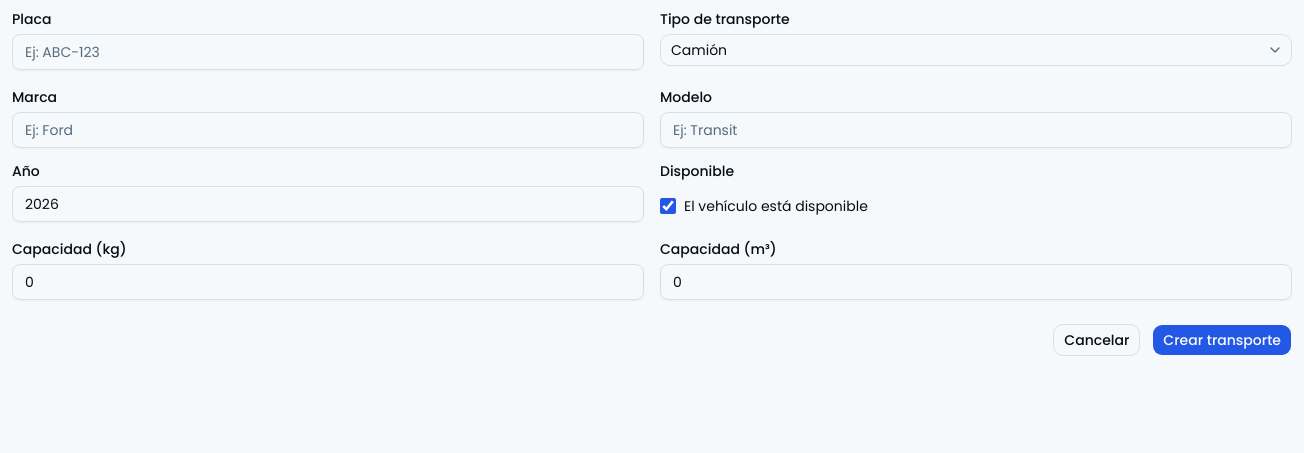
Test case: TransportForm — validación › muestra errores en campos de texto requeridos al enviar vacío
Clear the field labelled "Placa": [328, 52] box [12,34,644,70]
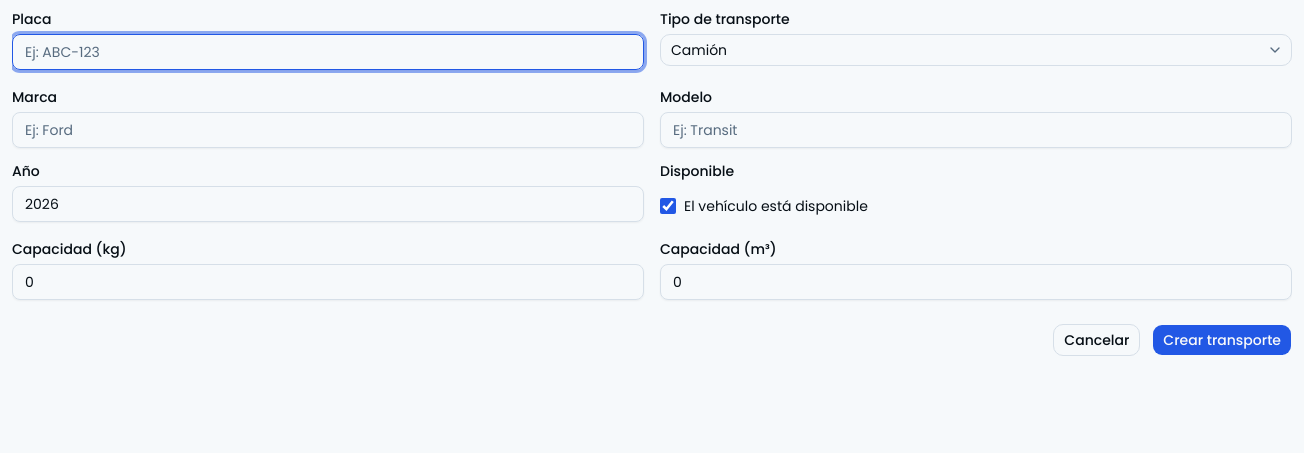
Clear the field labelled "Marca": [328, 130] box [12,112,644,148]
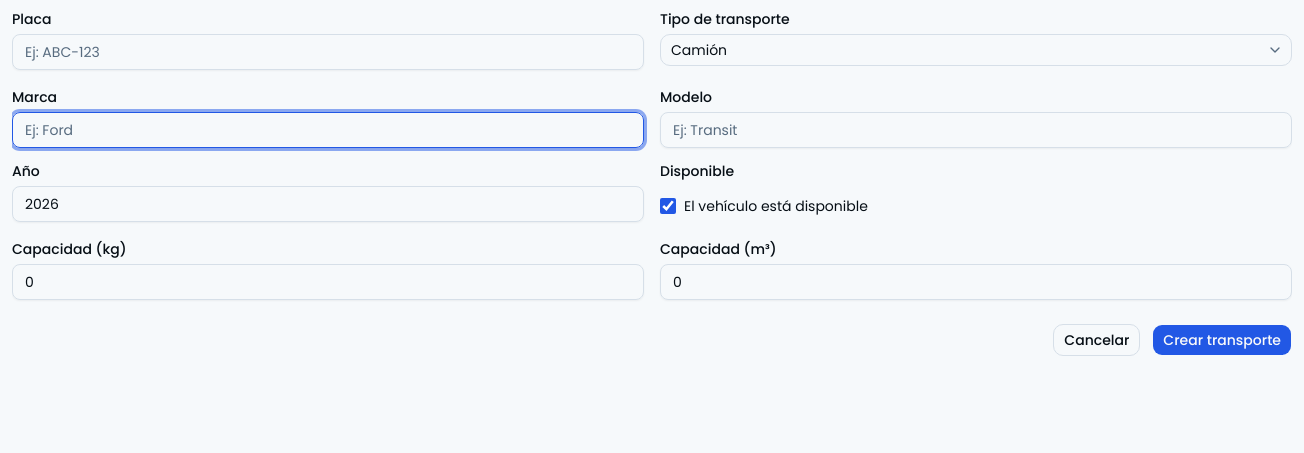
Clear the field labelled "Modelo": [976, 130] box [660,112,1292,148]
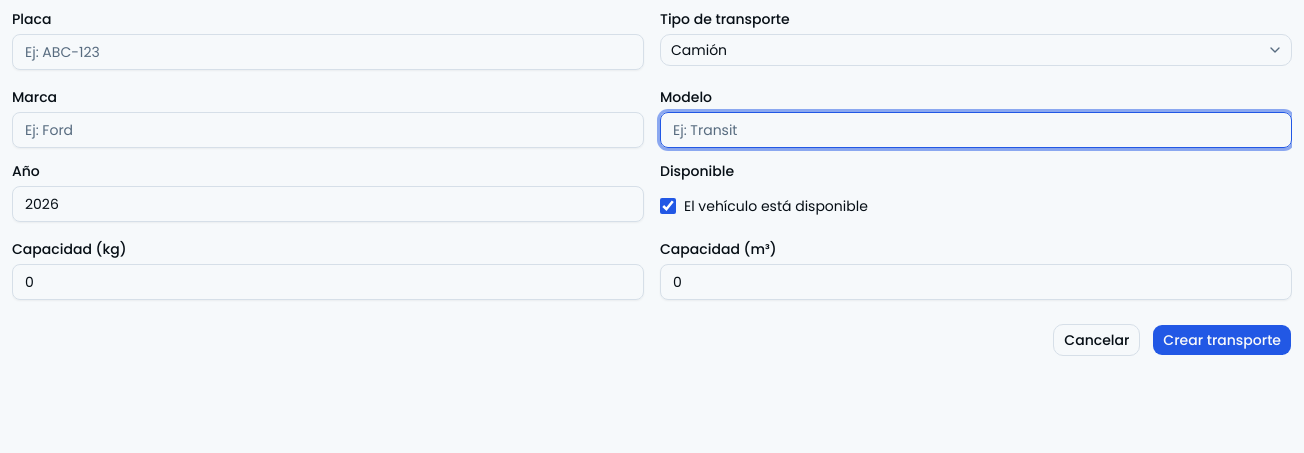
Click the button "Crear transporte": [1222, 340] box [1152,324,1292,356]
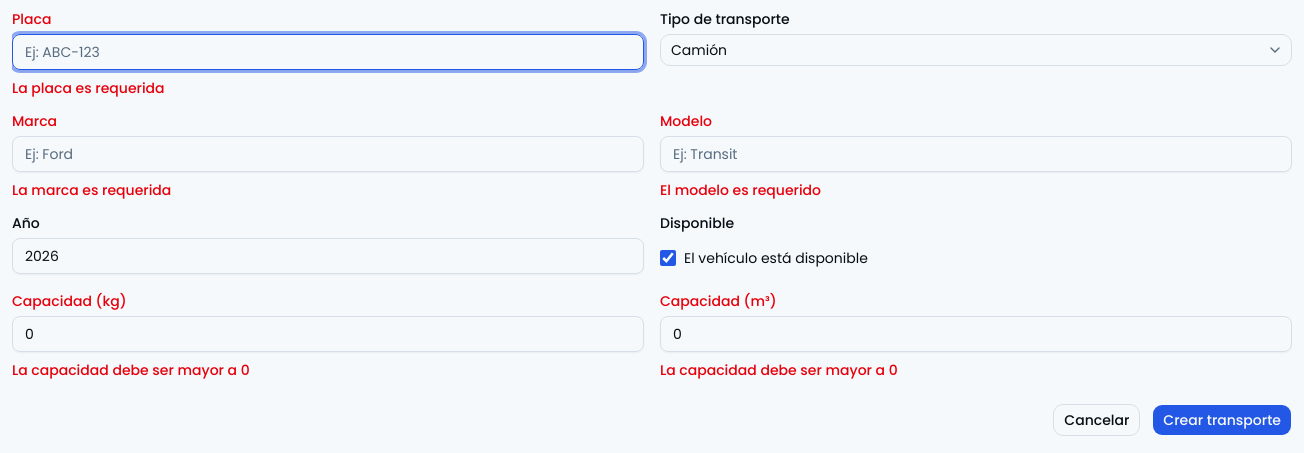
Expected: the text "La placa es requerida" is shown, [12,78,165,98]
Expected: the text "La marca es requerida" is shown, [12,180,171,200]
Expected: the text "El modelo es requerido" is shown, [660,180,821,200]
